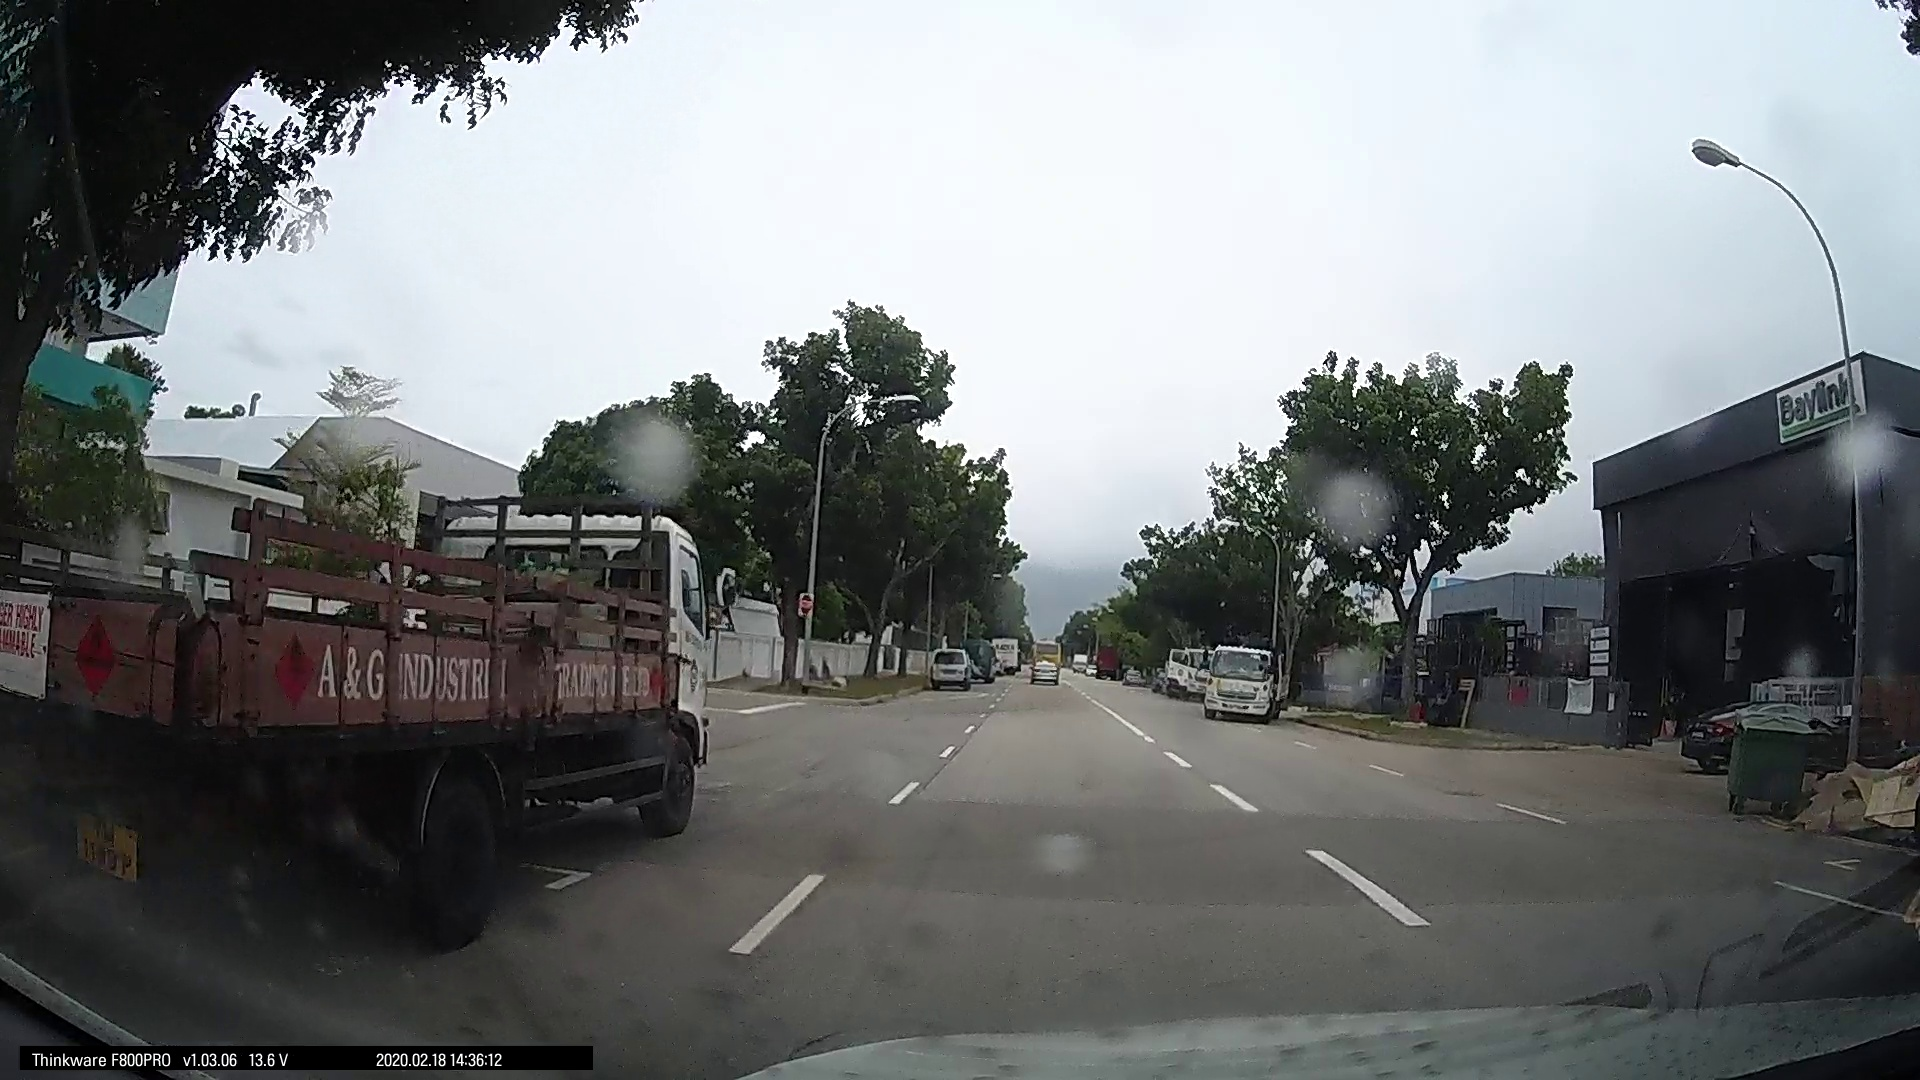Light Vehicle: (105, 612, 712, 866), (1398, 663, 1615, 877), (1638, 702, 1896, 843), (806, 625, 955, 760), (943, 657, 989, 713), (1187, 670, 1238, 717), (1040, 655, 1083, 690)
